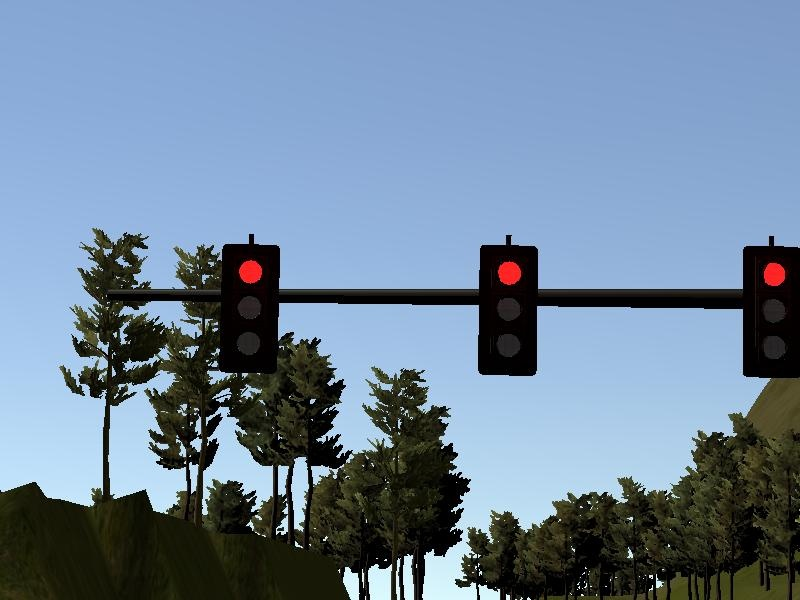red: (476, 239, 542, 379), (220, 238, 282, 377), (741, 242, 798, 379)
